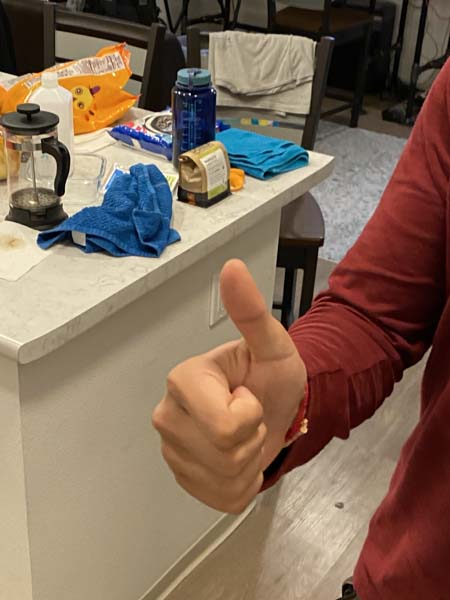Thumbs Up: (148, 254, 312, 524)
